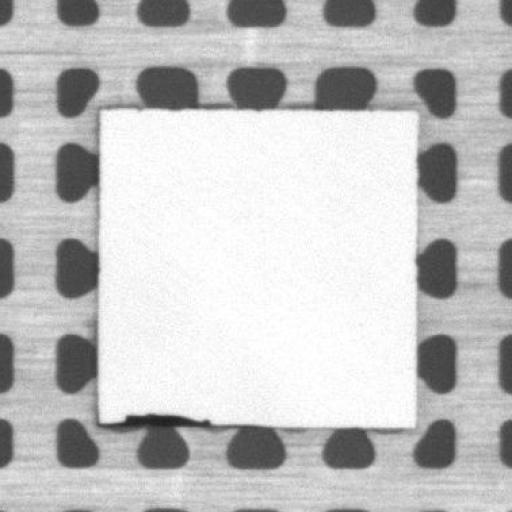DIE_BROKEN: (114, 407, 218, 428)
